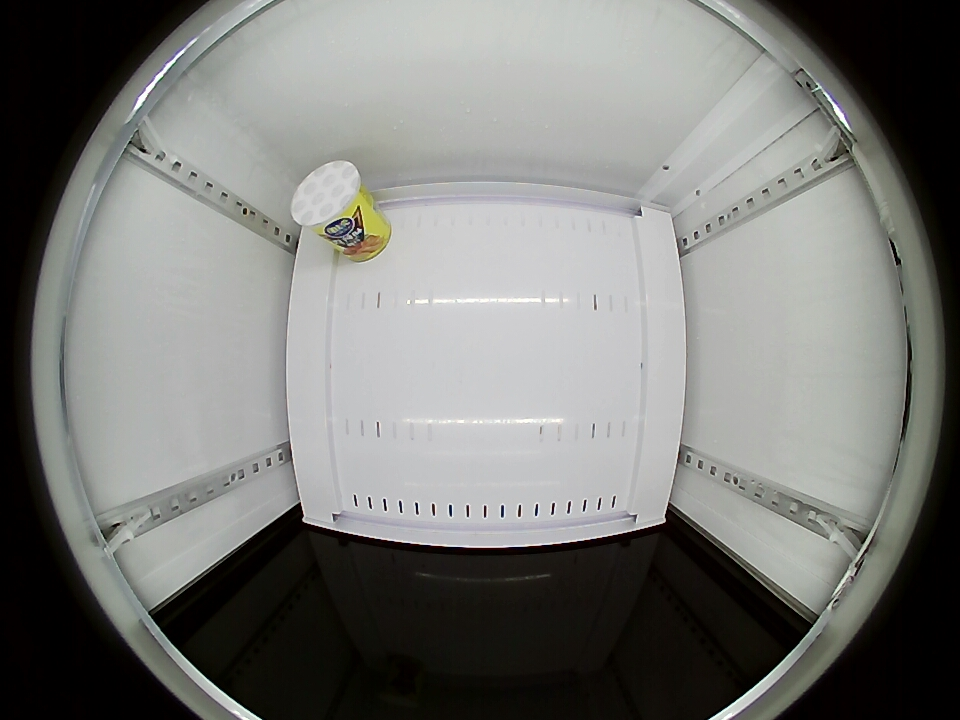kebike: (291, 160, 368, 238)
